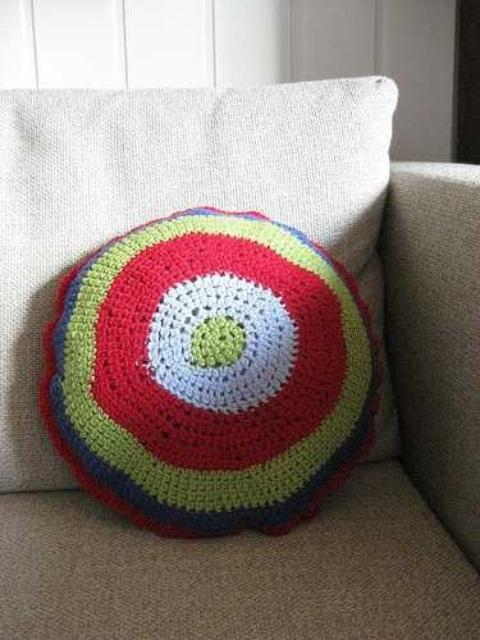pillow: (0, 74, 400, 496)
